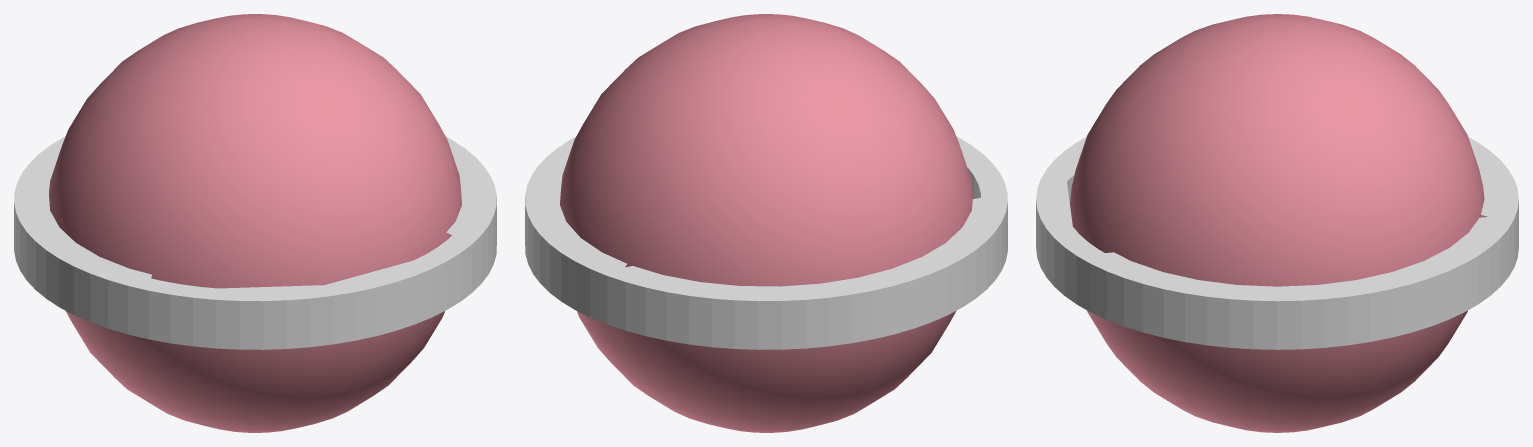
Rendered from Target.fbx.
The picture shows the model from 3 angles, left to right: view 1: azimuth 30°, elevation 25°; view 2: azimuth 150°, elevation 25°; view 3: azimuth 270°, elevation 25°; orthographic projection.
Parts seen in each view (by area): view 1: Target; view 2: Target; view 3: Target.
Boxes of the visible parts, left/top/right/bottom form: Target: left=14, top=14, right=496, bottom=432; Target: left=525, top=14, right=1007, bottom=432; Target: left=1036, top=14, right=1518, bottom=432.
Size of the model in its own units: 180 by 156 by 180.
